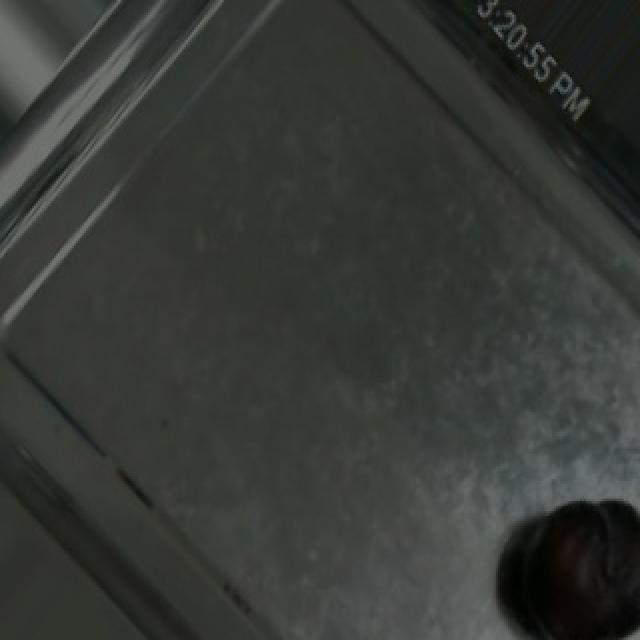Fruit: (502, 481, 640, 640)
